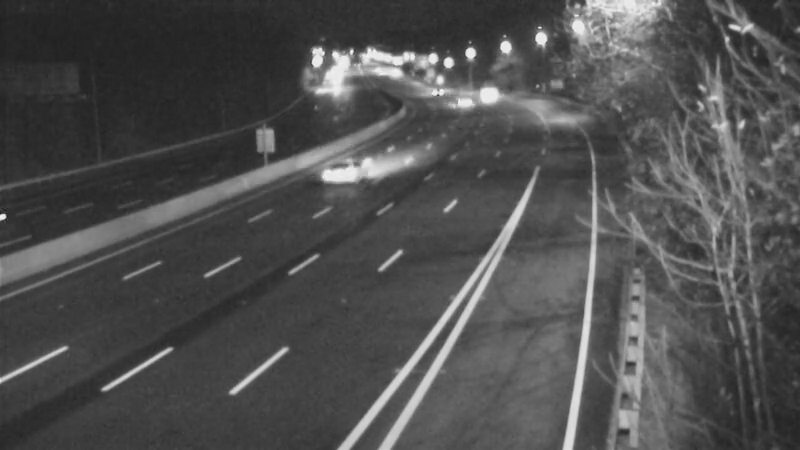vehicle: (294, 130, 374, 210), (369, 47, 419, 97), (465, 65, 515, 115), (415, 66, 465, 116), (432, 77, 482, 127)
